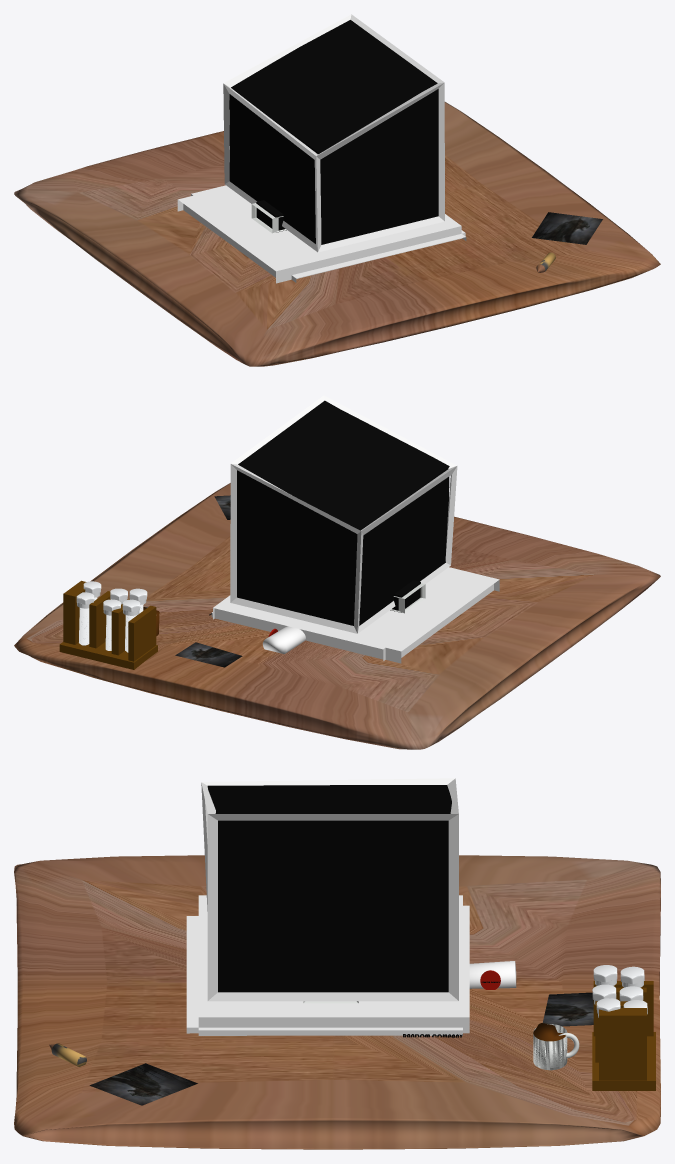
File: computer-transformed.glb
3 renders of one model, top to bottom at view 1: azimuth 30°, elevation 25°; view 2: azimuth 150°, elevation 25°; view 3: azimuth 270°, elevation 25°, orthographic. The views are drawn at different scales.
Visible parts, largest first — view 1: Object_47, Object_4, Object_6, Object_26; view 2: Object_47, Object_4, Object_6, Object_26; view 3: Object_47, Object_4, Object_6, Object_26, Object_18.
Part boxes in pixels (x1,y1,x2,y2): Object_47: [14, 102, 660, 366]; Object_4: [229, 20, 438, 244]; Object_6: [177, 14, 466, 283]; Object_26: [532, 212, 602, 244]; Object_47: [14, 483, 660, 749]; Object_4: [59, 400, 449, 669]; Object_6: [211, 395, 499, 663]; Object_26: [175, 495, 242, 667]; Object_47: [14, 855, 660, 1149]; Object_4: [207, 785, 655, 1090]; Object_6: [186, 778, 516, 1035]; Object_26: [89, 992, 593, 1105]; Object_18: [480, 970, 565, 1041].
Bounding box in the file's own units: 6.72 × 2.77 × 6.76.
Materials: 7 (7 with a texture image).
